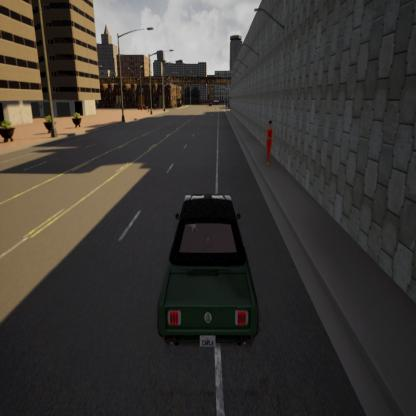Cars: (148, 187, 266, 372)
Pedestrian: (261, 115, 278, 172)
